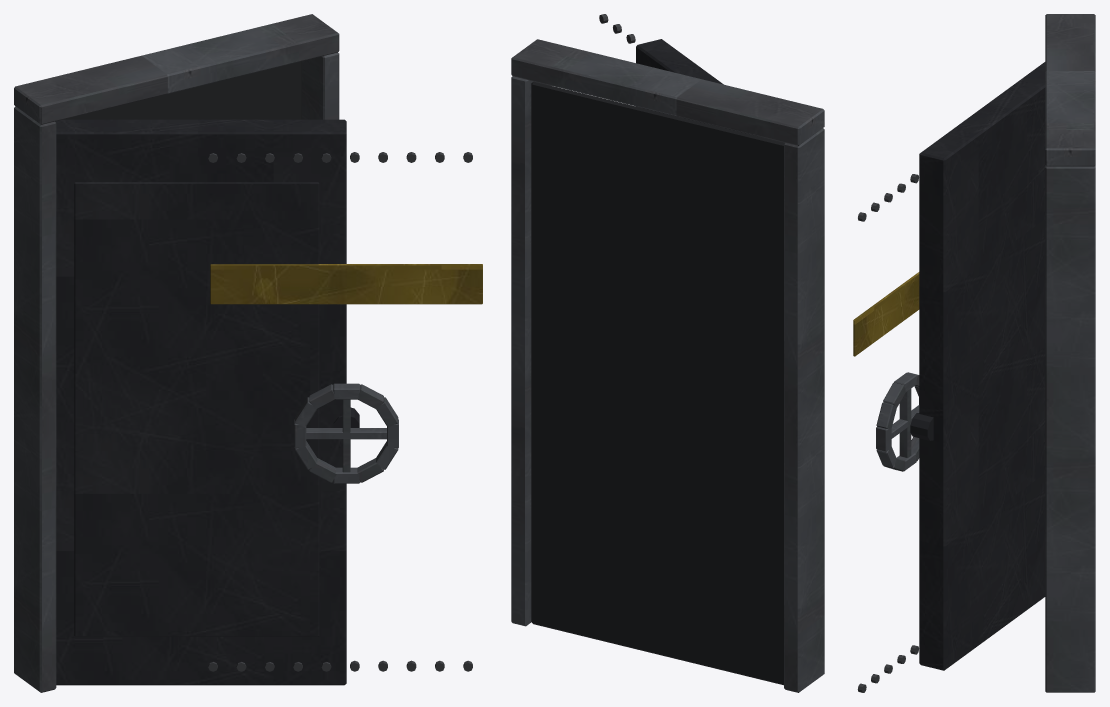
File: door_steel.glb
The picture shows the model from 3 angles, left to right: view 1: azimuth 30°, elevation 25°; view 2: azimuth 150°, elevation 25°; view 3: azimuth 270°, elevation 25°; orthographic projection. The views are drawn at different scales.
Parts seen in each view (by area): view 1: door, frame; view 2: frame, door; view 3: door, frame.
Part boxes in pixels (x1,y1,x2,y2): door: [55, 119, 482, 685]; frame: [14, 14, 339, 692]; frame: [511, 39, 824, 692]; door: [599, 14, 782, 142]; door: [853, 62, 1045, 692]; frame: [1045, 14, 1095, 692].
Bounding box in the file's own units: 1.44 × 2.38 × 0.9605.
Materials: 4 (3 with a texture image).
